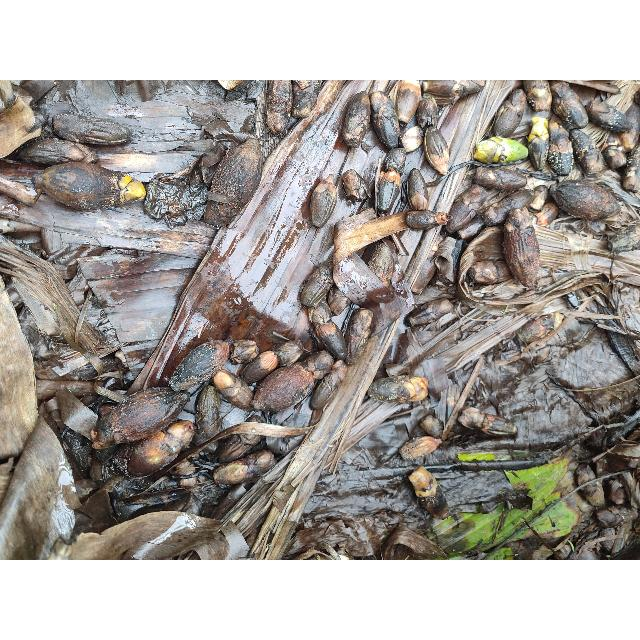damaged: (76, 247, 206, 286), (89, 150, 211, 177), (254, 362, 316, 412), (503, 207, 541, 287), (93, 101, 195, 127), (50, 114, 130, 146), (18, 137, 98, 167), (216, 416, 268, 460), (482, 188, 534, 226), (214, 368, 254, 414), (568, 128, 604, 176), (342, 91, 370, 150), (316, 359, 348, 408), (546, 122, 574, 176), (343, 308, 372, 360), (472, 166, 528, 192), (300, 259, 330, 307), (240, 350, 282, 384), (266, 80, 292, 134), (516, 314, 562, 344), (368, 242, 397, 288), (316, 321, 346, 364), (424, 126, 448, 176), (465, 260, 511, 284), (406, 167, 429, 213), (272, 338, 306, 368), (302, 350, 334, 380), (230, 339, 260, 365), (416, 96, 438, 130), (400, 123, 422, 153), (328, 286, 350, 316), (384, 148, 406, 176)
